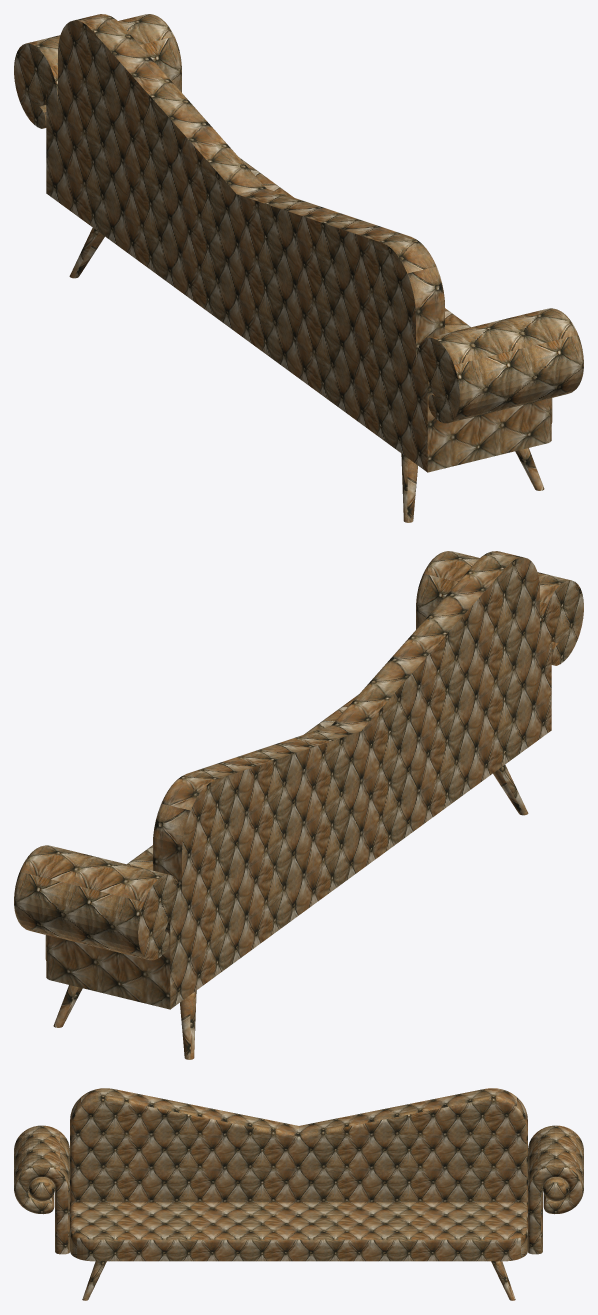
The model's file is BankOudU.fbx.
3 views of the same model, one above another, from view 1: azimuth 30°, elevation 25°; view 2: azimuth 150°, elevation 25°; view 3: azimuth 270°, elevation 25° (orthographic). The views are drawn at different scales.
Visible parts, largest first — view 1: Mikkels Couch; view 2: Mikkels Couch; view 3: Mikkels Couch.
Boxes of the visible parts, box(x1,y1,x2,y2) form: Mikkels Couch: box(14, 14, 583, 522); Mikkels Couch: box(14, 551, 583, 1059); Mikkels Couch: box(14, 1088, 583, 1300).
Size of the model in its own units: 184 by 311 by 949.
